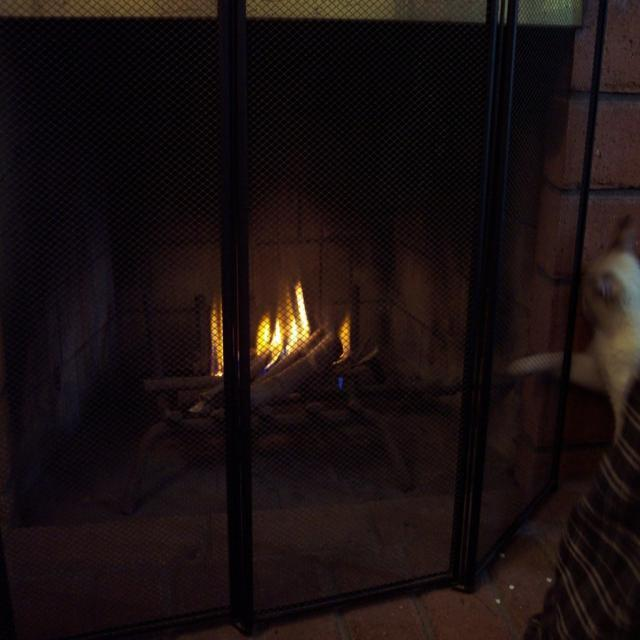Fire: (252, 290, 380, 380)
